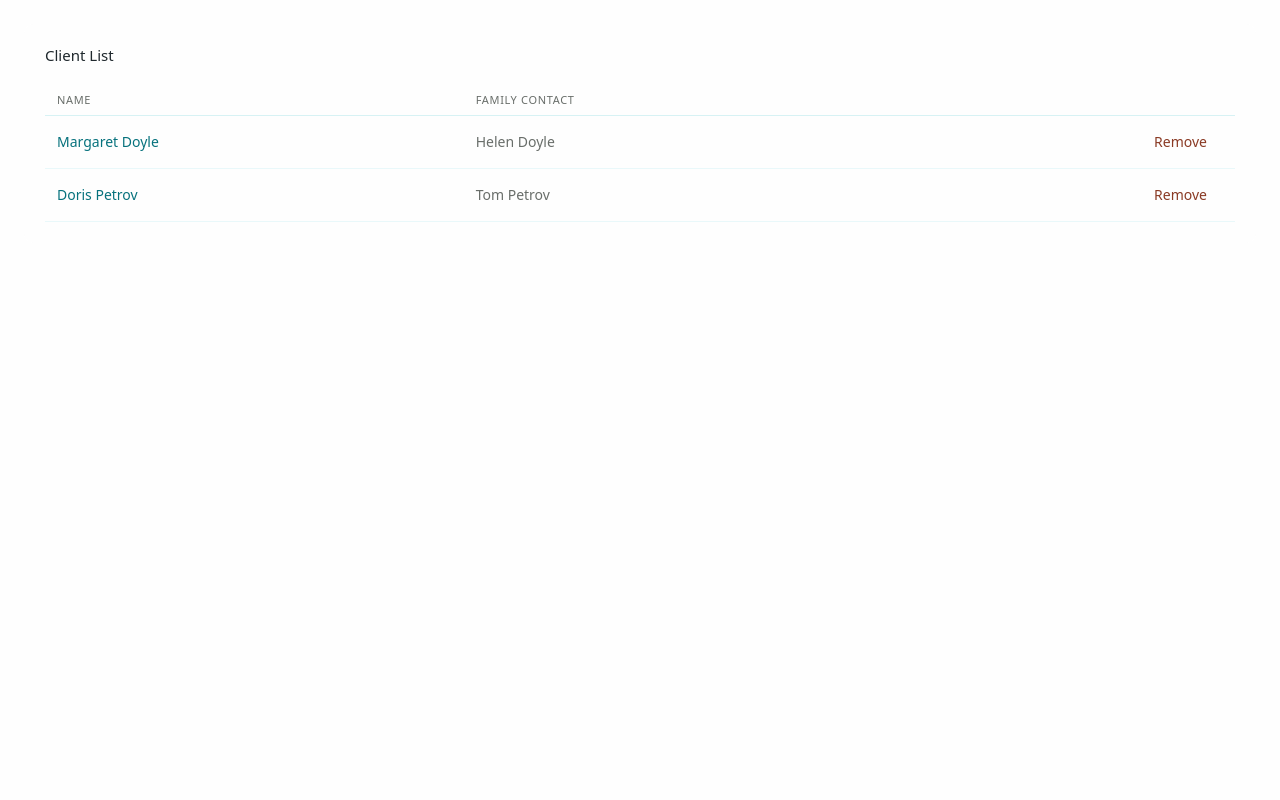
Test: [ADM-05][AC-06] a failed removal › [ADM-05][AC-06] keeps the row, shows an alert and closes the dialog when removeClient fails
Click the button with aria-label "Remove Margaret Doyle" at (1181, 142), box [1138, 120, 1223, 164]
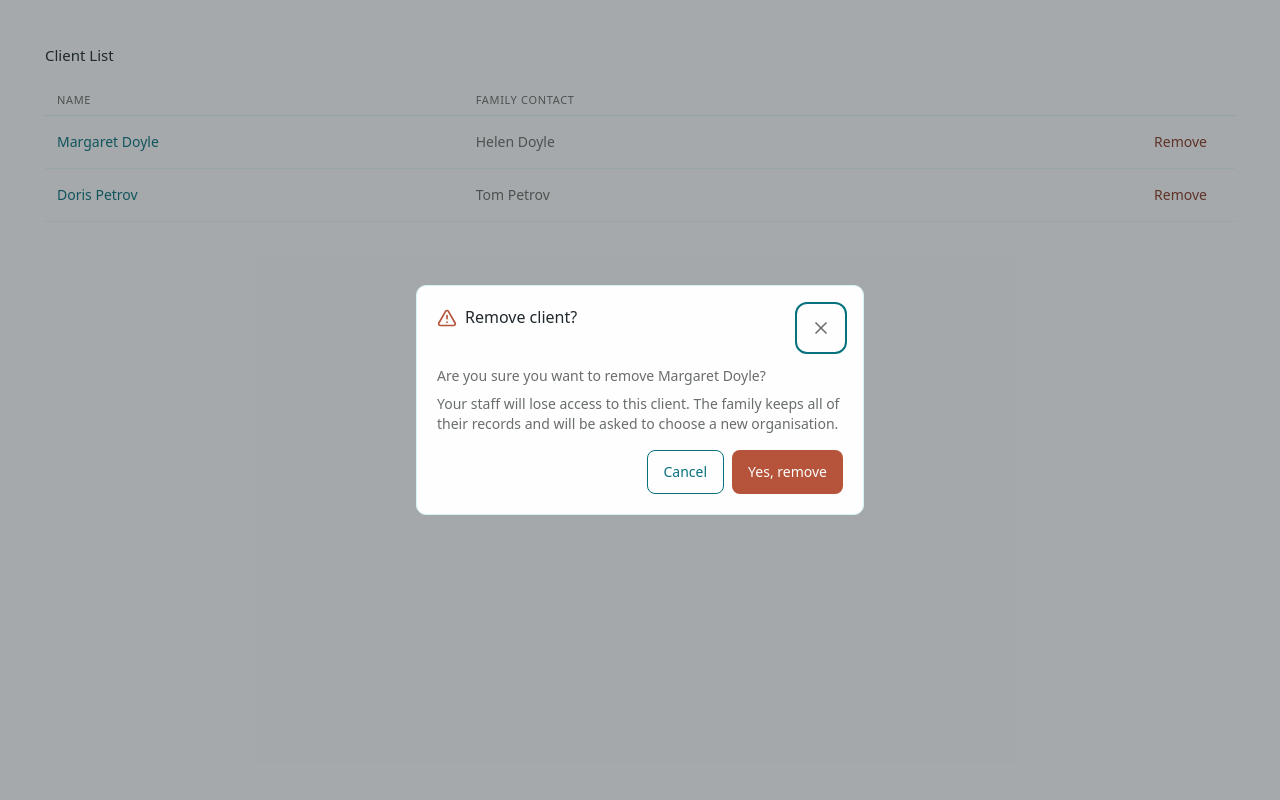
Click the button "Yes, remove" at (788, 472), box [732, 450, 843, 494]
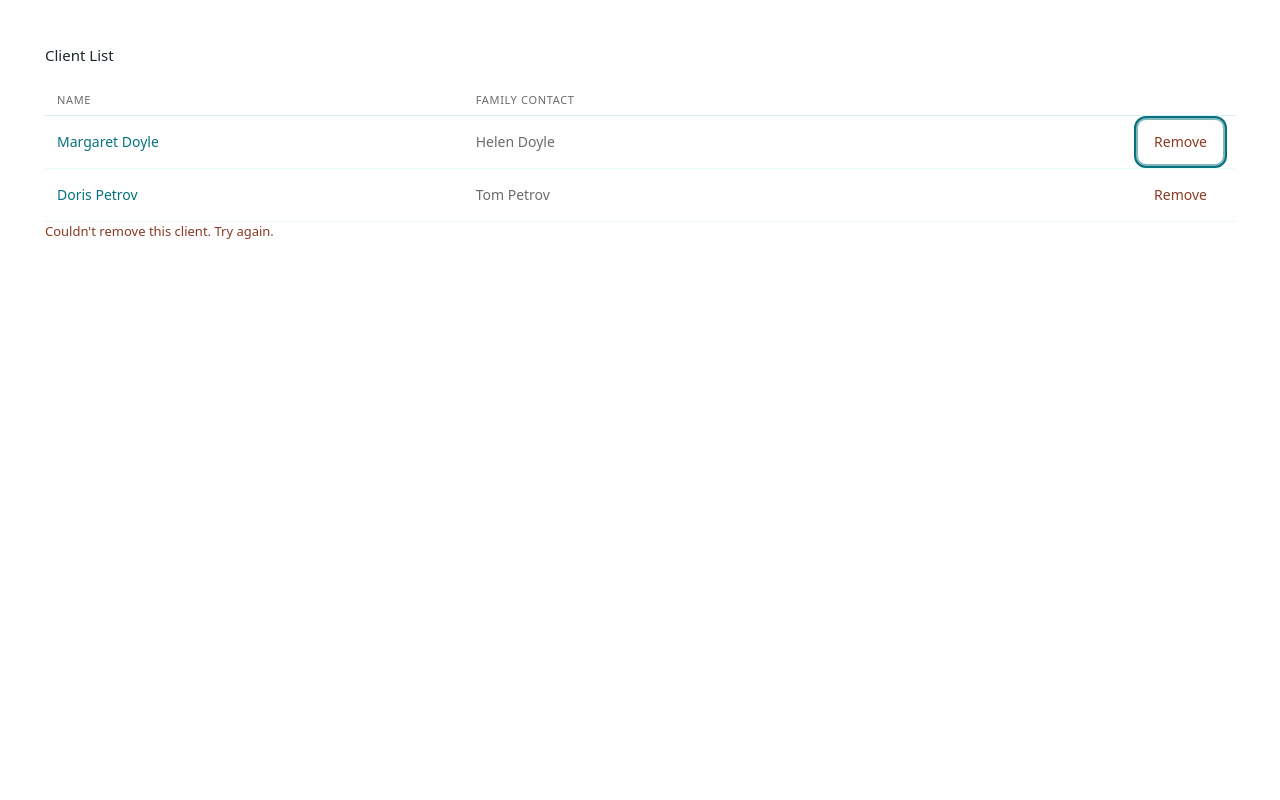
Expected: the row "Margaret Doyle Helen Doyle Remove" is shown, [45, 116, 1235, 168]
Expected: the message shows "Couldn't remove this client", [45, 222, 274, 240]
Expected: the dialog is gone
